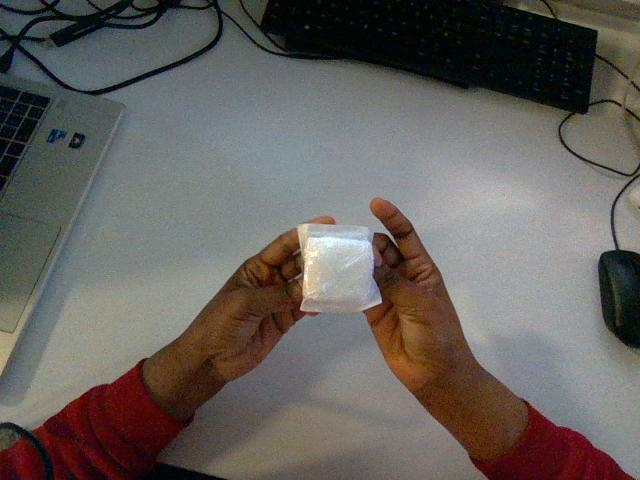gauze: (298, 224, 381, 312)
